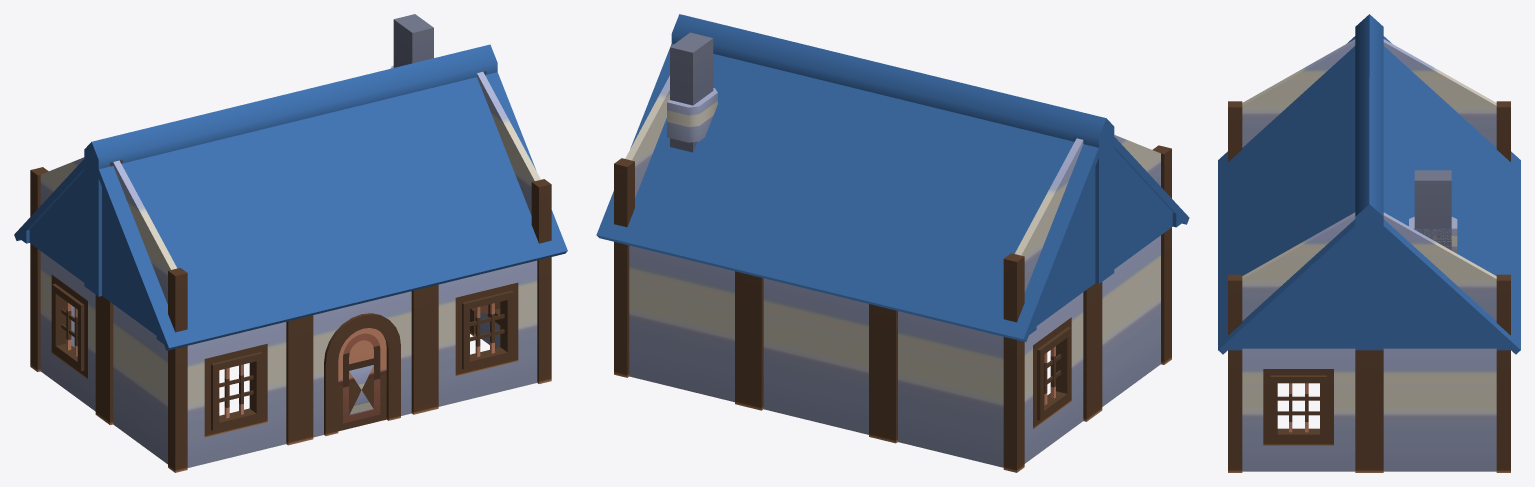
File: maison-bois-1.glb
3 views of the same model, side by side, from view 1: azimuth 30°, elevation 25°; view 2: azimuth 150°, elevation 25°; view 3: azimuth 270°, elevation 25° (orthographic). The views are drawn at different scales.
Visible parts, largest first — view 1: roof-high, wall-window-shutters; view 2: roof-high, wall-window-shutters; view 3: roof-high, wall-window-shutters.
Boxes of the visible parts, x1=… form: roof-high: x1=14, y1=44, x2=567, y2=350; wall-window-shutters: x1=30, y1=14, x2=551, y2=472; roof-high: x1=596, y1=14, x2=1189, y2=341; wall-window-shutters: x1=614, y1=32, x2=1171, y2=472; roof-high: x1=1218, y1=14, x2=1520, y2=354; wall-window-shutters: x1=1228, y1=39, x2=1510, y2=472.
Size of the model in its own units: 9.54 by 6.6 by 6.42.
2 materials, 1 textured.
